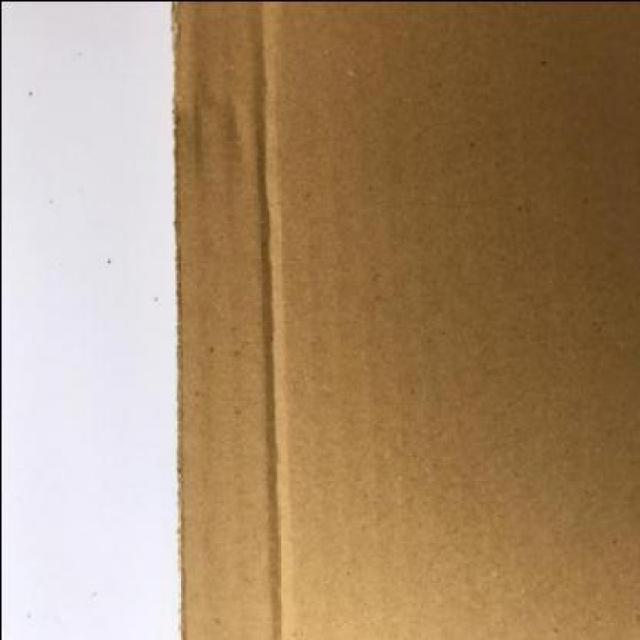box: (167, 1, 638, 640)
